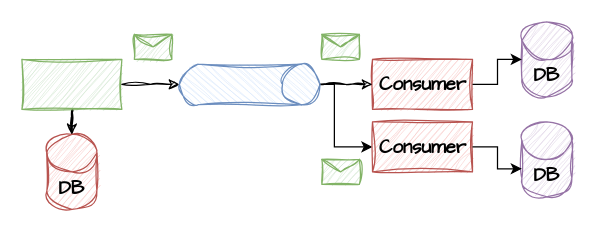
Some shapes in this 594 by 231 pixel diagram are drawn without their labels. The centre of each missing label's shape, as x and y in pixels:
Backbone: (x=249, y=84)
Producer: (x=71, y=83)
